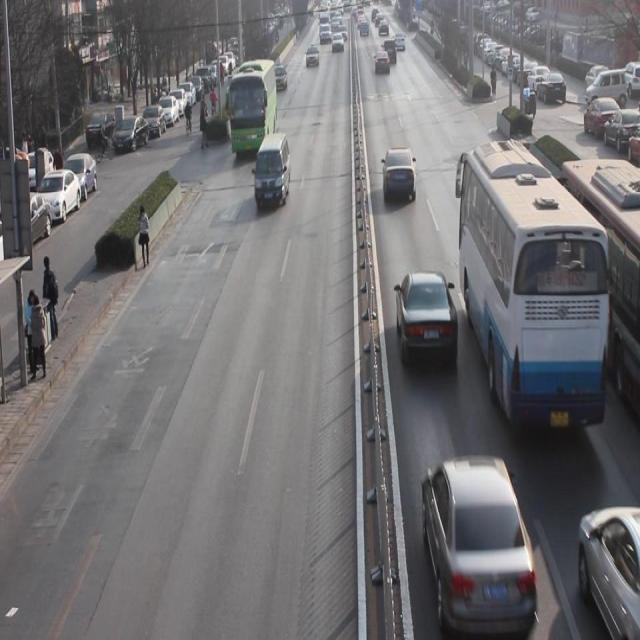car: (420, 454, 541, 621), (395, 271, 460, 371), (382, 146, 418, 204), (273, 64, 288, 95), (374, 50, 391, 76), (306, 43, 320, 73), (332, 36, 345, 54)
truck: (255, 132, 292, 212)
van: (460, 143, 608, 434), (556, 163, 640, 407), (228, 66, 275, 164)
